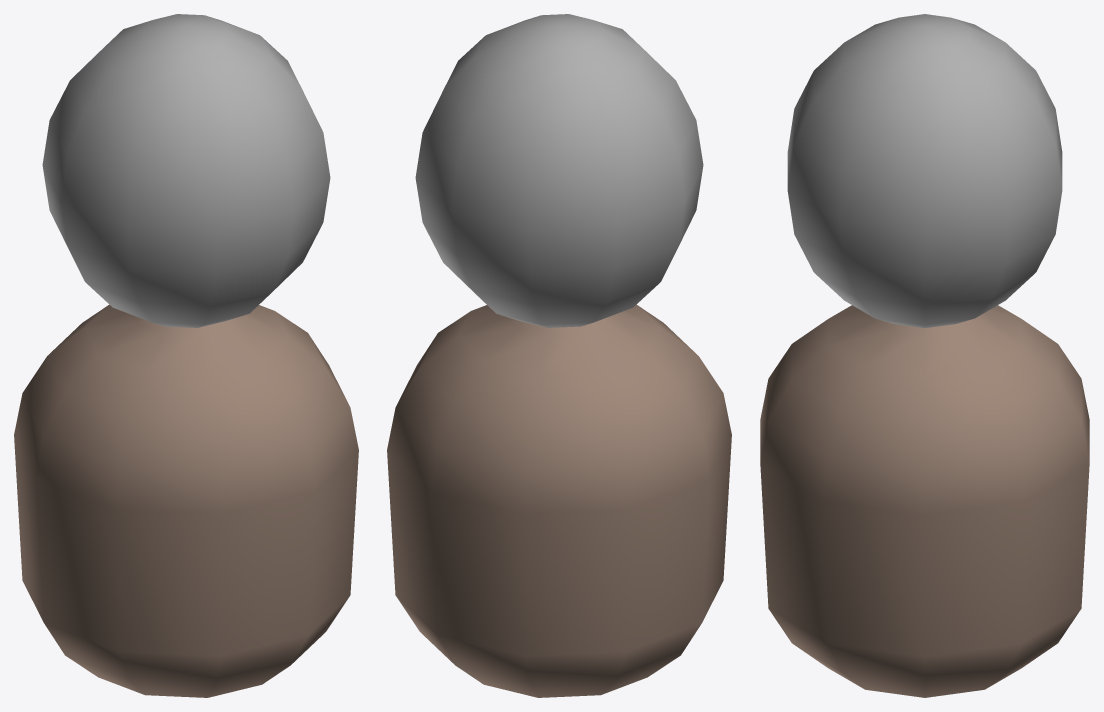
File: mii_model.fbx
3 views of the same model, side by side, from view 1: azimuth 30°, elevation 25°; view 2: azimuth 150°, elevation 25°; view 3: azimuth 270°, elevation 25° (orthographic).
Visible parts, largest first — view 1: group2; view 2: group2; view 3: group2.
Boxes of the visible parts, x1,y1,x2,y2 form: group2: (14, 14, 358, 697); group2: (387, 14, 731, 697); group2: (760, 14, 1089, 697).
Bounding box in the file's own units: 59.37 × 124 × 56.47.
